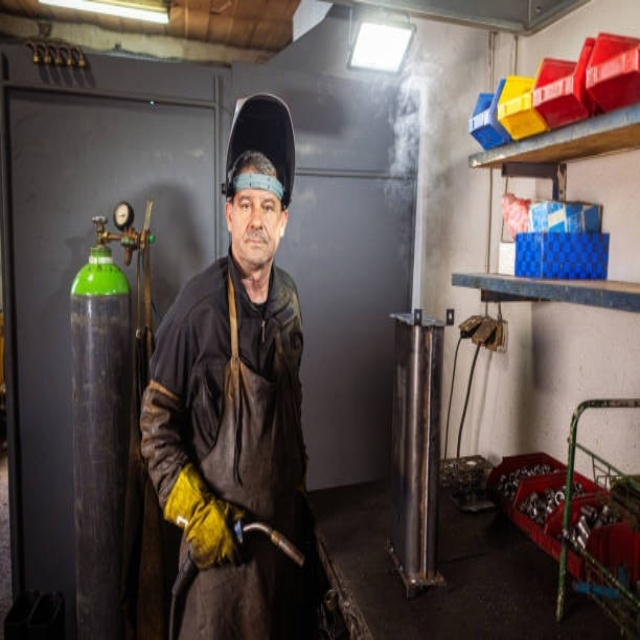Guantes: (161, 461, 241, 569)
Sin_gafas: (236, 191, 277, 221)
Sin_mascara: (239, 226, 273, 259)
